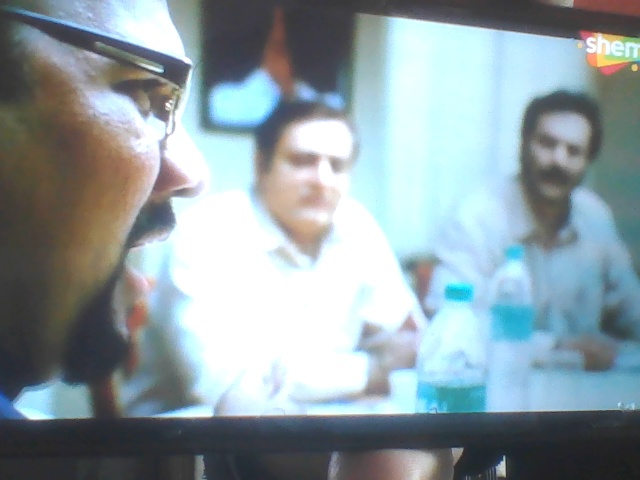fake: (254, 89, 363, 243)
